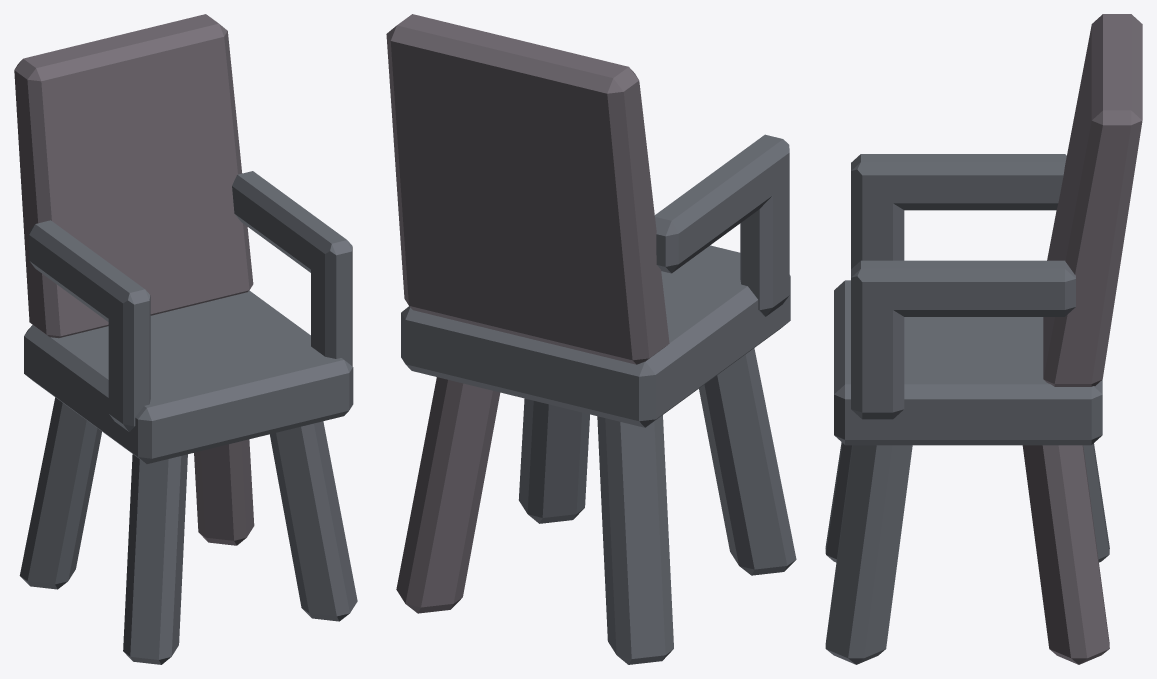
File: chair_a_230.gltf
The picture shows the model from 3 angles, left to right: view 1: azimuth 30°, elevation 25°; view 2: azimuth 150°, elevation 25°; view 3: azimuth 270°, elevation 25°; orthographic projection. The views are drawn at different scales.
Parts seen in each view (by area): view 1: chair_a002; view 2: chair_a002; view 3: chair_a002.
Part boxes in pixels (left/top/right/bottom): chair_a002: left=14, top=14, right=357, bottom=664; chair_a002: left=386, top=14, right=796, bottom=664; chair_a002: left=825, top=14, right=1142, bottom=664.
Size of the model in its own units: 0.4269 by 0.8984 by 0.4719.
Materials: 1 (1 with a texture image).
